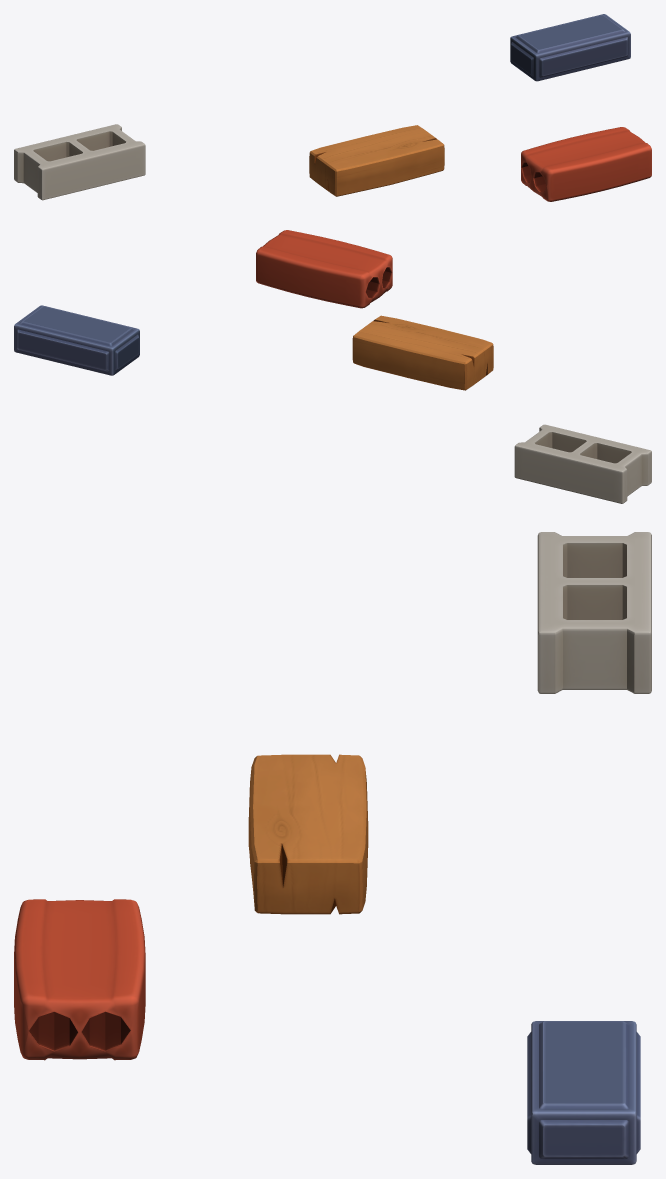
3 views of the same model, one above another, from view 1: azimuth 30°, elevation 25°; view 2: azimuth 150°, elevation 25°; view 3: azimuth 270°, elevation 25° (orthographic). The views are drawn at different scales.
Visible parts, largest first — view 1: Brick, Concrete, Wood, Metal; view 2: Brick, Concrete, Wood, Metal; view 3: Brick, Wood, Concrete, Metal.
Part boxes in pixels (x1,y1,x2,y2): Brick: (521,127,651,201); Concrete: (14,124,145,200); Wood: (309,125,444,196); Metal: (510,14,630,81); Brick: (256,230,392,308); Concrete: (514,424,651,503); Wood: (352,315,493,390); Metal: (14,305,139,375); Brick: (14,899,145,1060); Wood: (248,754,368,914); Concrete: (537,532,651,693); Metal: (527,1021,640,1164).
Size of the model in its own units: 229 by 12.7 by 108.
